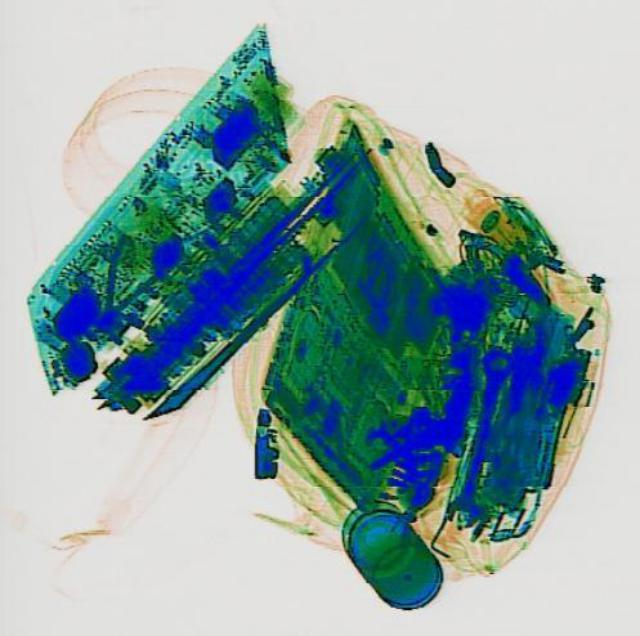Wrench: (440, 346, 520, 527)
